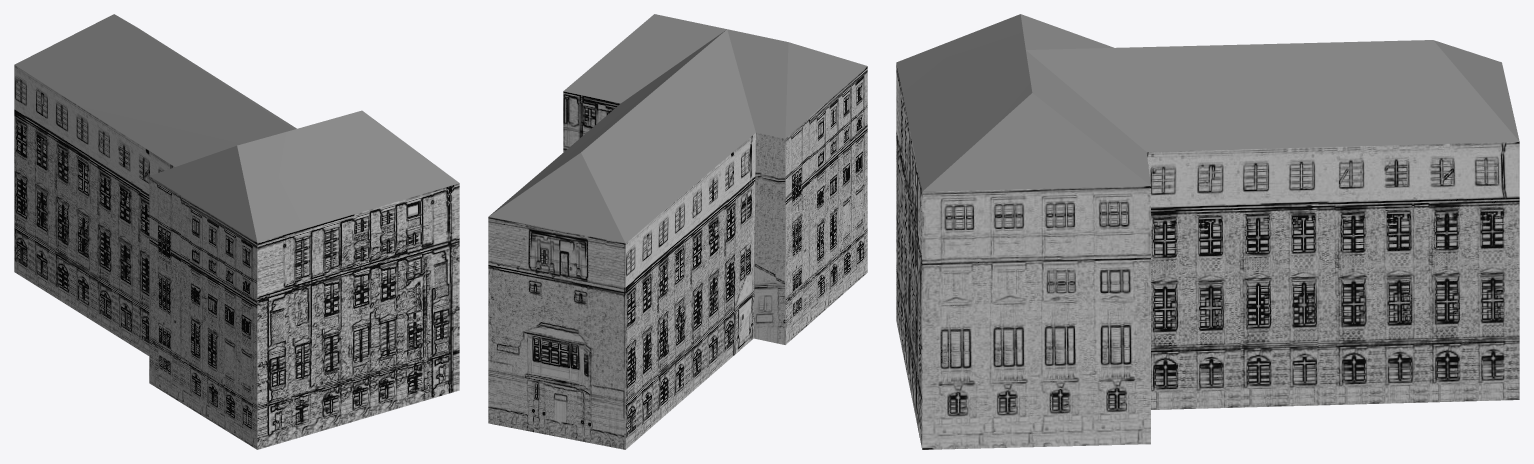
The model's file is Koenig-Bau.gltf.
3 views of the same model, side by side, from view 1: azimuth 30°, elevation 25°; view 2: azimuth 150°, elevation 25°; view 3: azimuth 270°, elevation 25° (orthographic). The views are drawn at different scales.
Visible parts, largest first — view 1: Dach.1; view 2: Dach.1; view 3: Dach.1.
Part boxes in pixels (x1,y1,x2,y2): Dach.1: (14, 14, 459, 449); Dach.1: (488, 14, 867, 449); Dach.1: (896, 14, 1519, 449).
Size of the model in its own units: 22.34 by 24.68 by 42.94.
9 materials, 8 textured.
